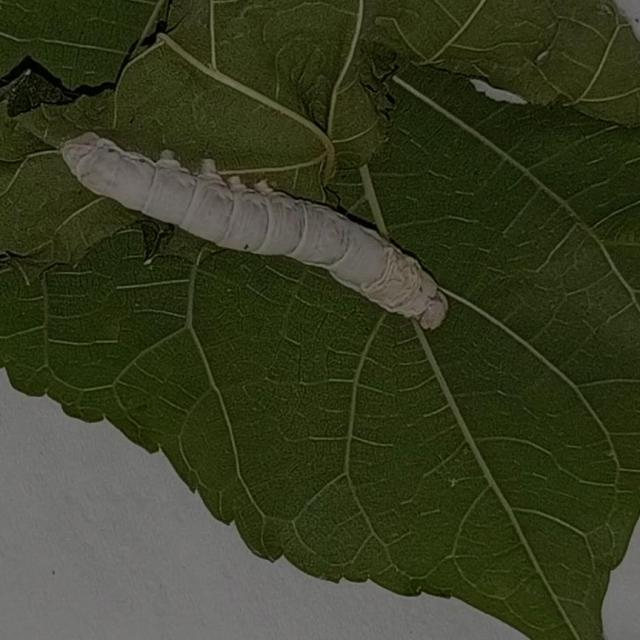Healthy: (42, 100, 464, 367)
